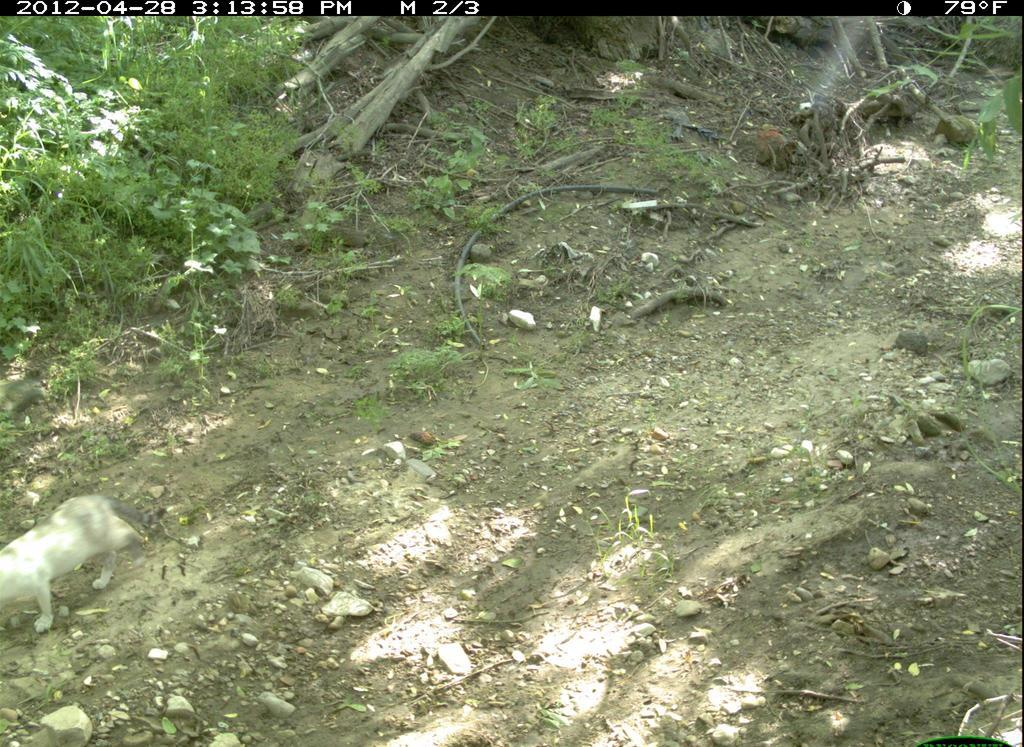cat: (1, 483, 150, 632)
